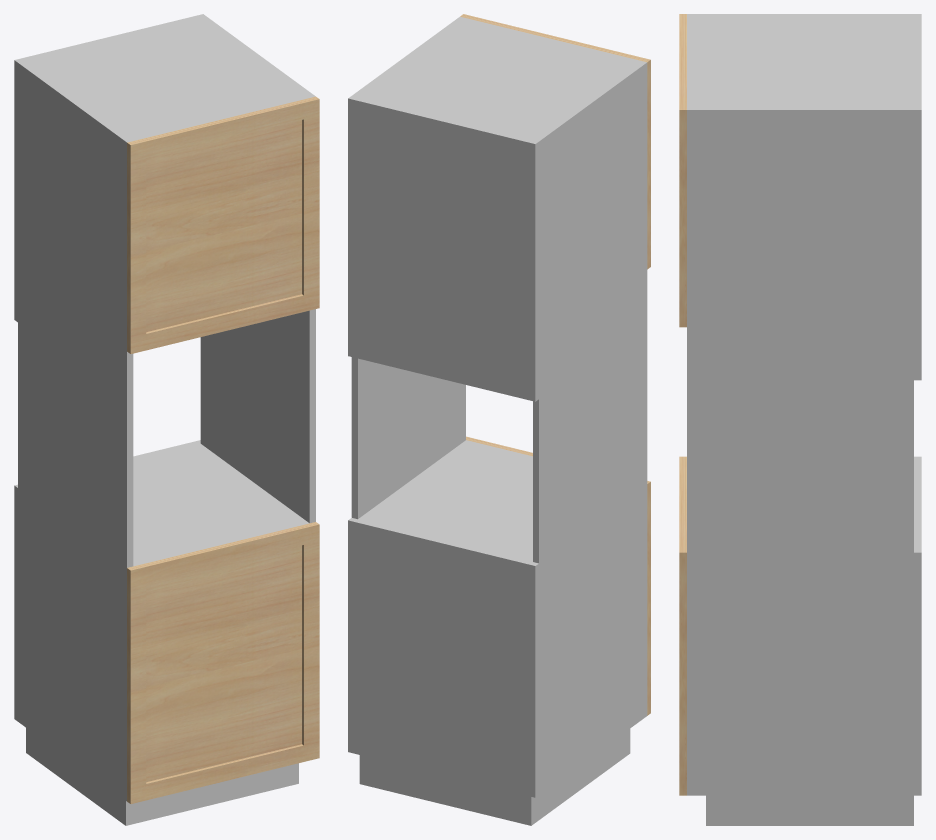
Rendered from METOD_High_Cabinet_for_Fridge_with_2_Dorrs_White_Torhamn_Ash.obj.
The picture shows the model from 3 angles, left to right: view 1: azimuth 30°, elevation 25°; view 2: azimuth 150°, elevation 25°; view 3: azimuth 270°, elevation 25°; orthographic projection. The views are drawn at different scales.
Visible parts, largest first — view 1: Rectangle001, Rectangle010, Rectangle005, Rectangle009, Rectangle004, Rectangle008, Rectangle002, Rectangle003; view 2: Rectangle001, Rectangle002, Rectangle003, Rectangle008, Rectangle004, Rectangle009; view 3: Rectangle001, Rectangle008, Rectangle002, Rectangle003, Rectangle009, Rectangle004.
Boxes of the visible parts, bbox=[...] form: Rectangle001: bbox=[18, 16, 315, 801]; Rectangle010: bbox=[146, 545, 301, 781]; Rectangle005: bbox=[146, 120, 301, 331]; Rectangle009: bbox=[127, 522, 319, 803]; Rectangle004: bbox=[127, 96, 319, 353]; Rectangle008: bbox=[26, 728, 298, 825]; Rectangle002: bbox=[14, 14, 206, 322]; Rectangle003: bbox=[14, 440, 200, 721]; Rectangle001: bbox=[351, 16, 647, 794]; Rectangle002: bbox=[348, 96, 538, 401]; Rectangle003: bbox=[348, 518, 538, 797]; Rectangle008: bbox=[359, 729, 630, 825]; Rectangle004: bbox=[460, 14, 650, 269]; Rectangle009: bbox=[466, 436, 650, 715]; Rectangle001: bbox=[687, 14, 913, 795]; Rectangle008: bbox=[706, 795, 913, 825]; Rectangle002: bbox=[914, 14, 921, 380]; Rectangle003: bbox=[914, 456, 921, 795]; Rectangle009: bbox=[679, 456, 686, 795]; Rectangle004: bbox=[679, 14, 686, 327].
Bounding box in the file's own units: 600 × 2100 × 640.
